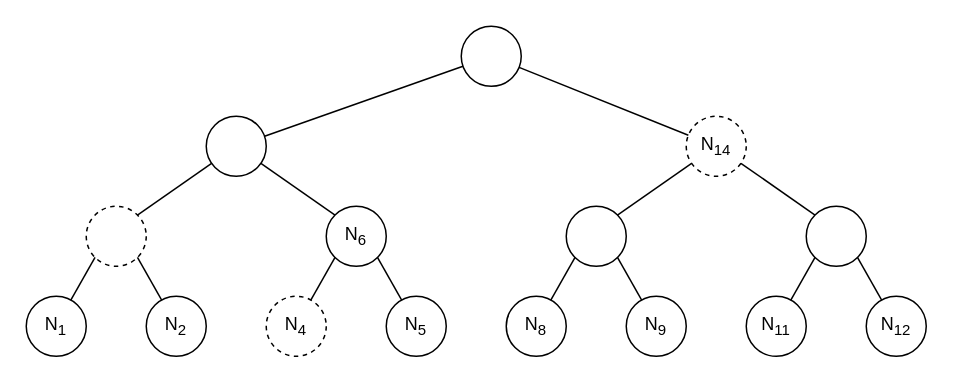
The diagram is 953 pixels wide and 383 high, and some of its shapes have lost their labels. The shapes that lost their labels are listed below. From the top down, each one's box as (x1, y1, x2, y2) in pixels, then its label:
(460, 25, 521, 86): N 15
(205, 115, 266, 176): N 7
(85, 205, 146, 266): N 3
(565, 205, 626, 266): N 10
(805, 205, 866, 266): N 13
